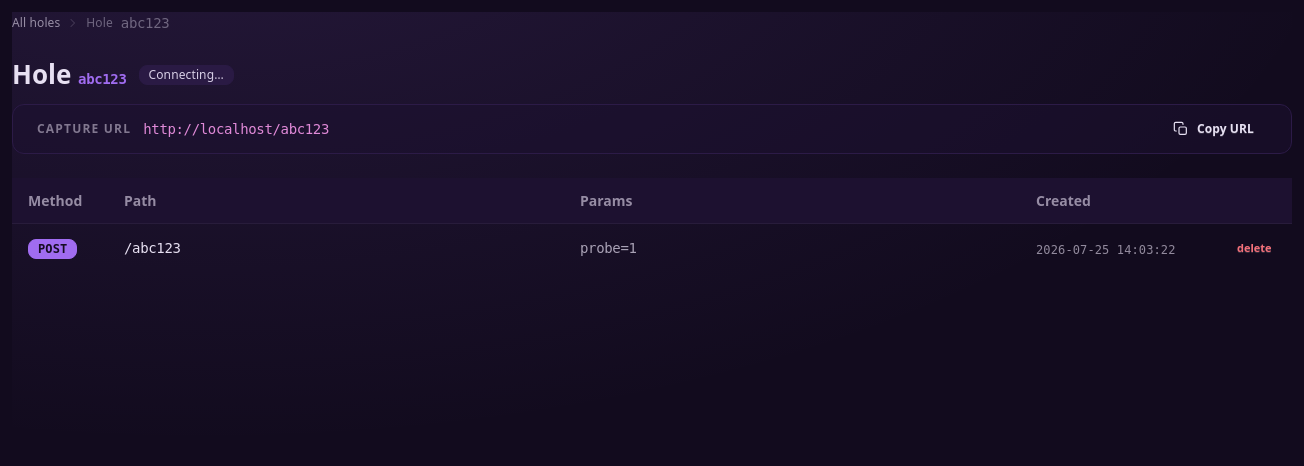
Scenario: Hole stream lifecycle › keeps the same stream when a request is selected
Check: the text "probe=1" is shown, box [580,240,637,256]
Click the link "/abc123".
click(152, 248)  # box [124,237,181,259]
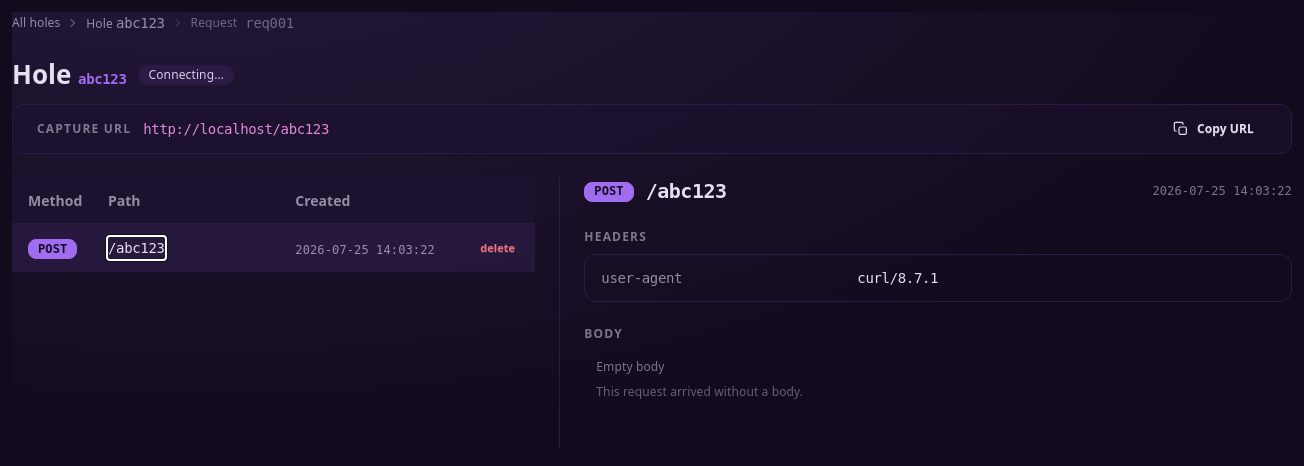
Check: the element named "Request detail" is shown, box [559,178,1292,449]
